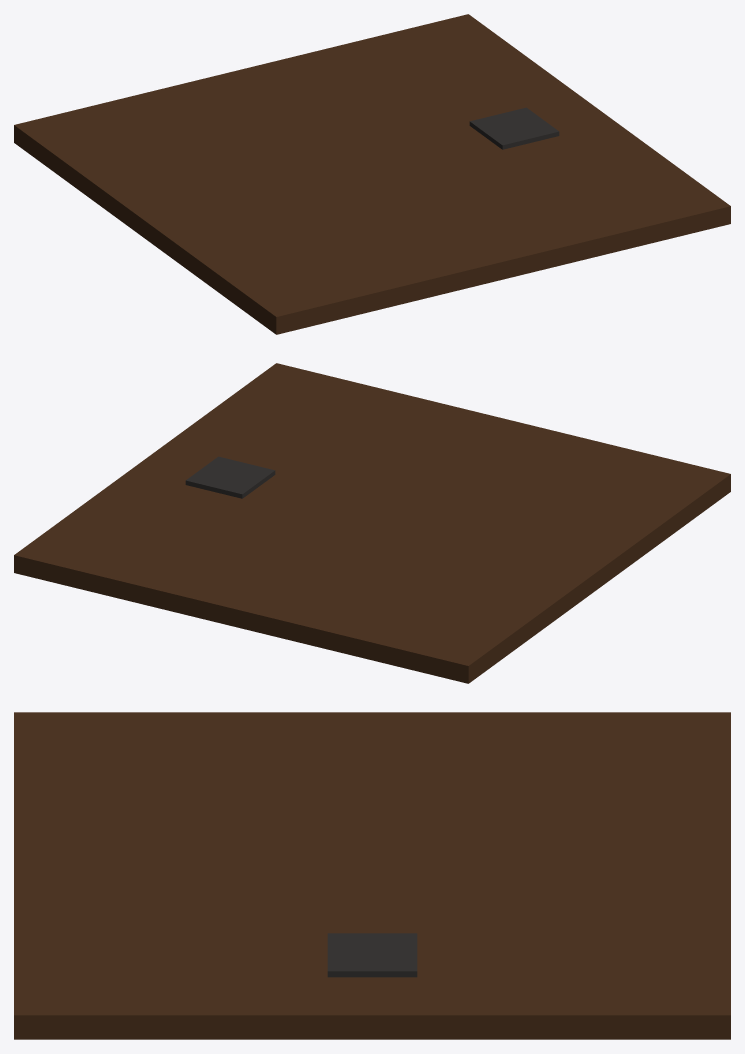
Rendered from hatch.302693f1.glb.
3 views of the same model, one above another, from view 1: azimuth 30°, elevation 25°; view 2: azimuth 150°, elevation 25°; view 3: azimuth 270°, elevation 25° (orthographic). The views are drawn at different scales.
Visible parts, largest first — view 1: body; view 2: body; view 3: body.
Part boxes in pixels (bbox=[...]): body: bbox=[14, 14, 730, 334]; body: bbox=[14, 363, 730, 683]; body: bbox=[14, 712, 730, 1039].
Bounding box in the file's own units: 0.8 × 0.0375 × 0.8.
